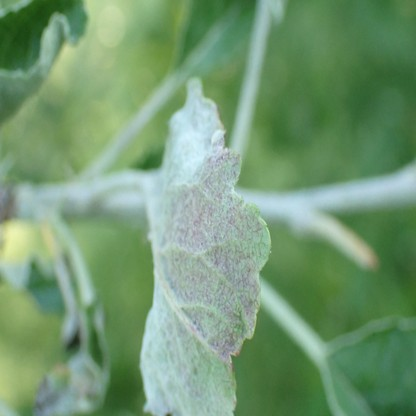powdery_mildew: (143, 75, 270, 416)
